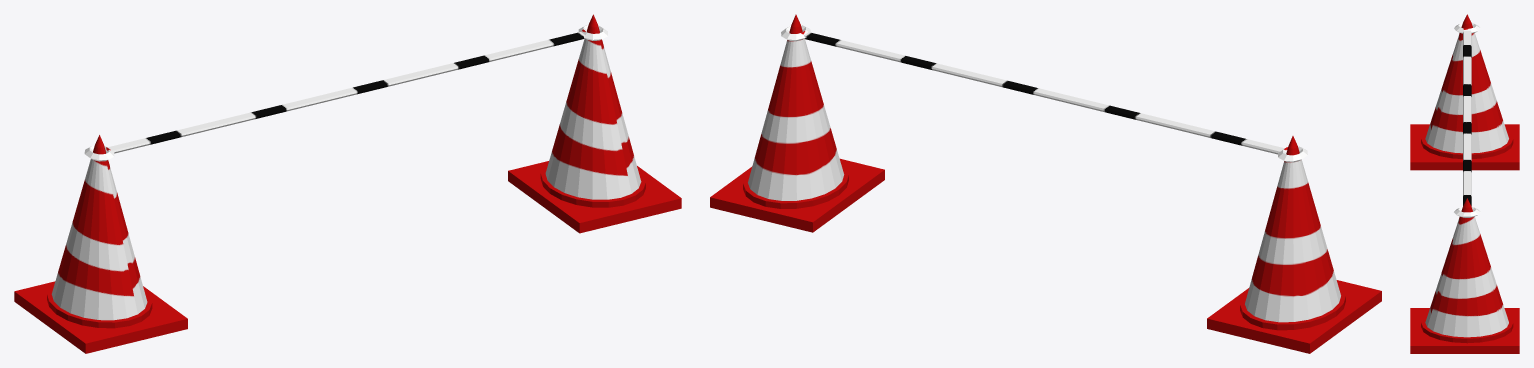
File: kon_tx_RE(2).fbx
3 views of the same model, side by side, from view 1: azimuth 30°, elevation 25°; view 2: azimuth 150°, elevation 25°; view 3: azimuth 270°, elevation 25° (orthographic). The views are drawn at different scales.
Visible parts, largest first — view 1: pCone1, pCone2, pTorus3, pCube2, pCube1; view 2: pCone1, pCone2, pTorus3, pCube1, pCube2; view 3: pCone2, pCone1, pCube1, pCube2, pTorus3.
Boxes of the visible parts, x1=… form: pCone1: x1=47, y1=135, x2=152, y2=328; pCone2: x1=540, y1=14, x2=645, y2=207; pTorus3: x1=84, y1=25, x2=607, y2=161; pCube2: x1=508, y1=161, x2=681, y2=233; pCube1: x1=14, y1=281, x2=187, y2=353; pCone1: x1=1240, y1=136, x2=1345, y2=330; pCone2: x1=743, y1=14, x2=848, y2=208; pTorus3: x1=781, y1=25, x2=1307, y2=162; pCube1: x1=1207, y1=280, x2=1381, y2=353; pCube2: x1=710, y1=158, x2=884, y2=232; pCone2: x1=1421, y1=198, x2=1513, y2=343; pCone1: x1=1421, y1=14, x2=1513, y2=158; pCube1: x1=1410, y1=124, x2=1519, y2=170; pCube2: x1=1410, y1=308, x2=1519, y2=353; pTorus3: x1=1454, y1=23, x2=1480, y2=217.
Size of the model in its own units: 9.84 by 2.84 by 2.05.
